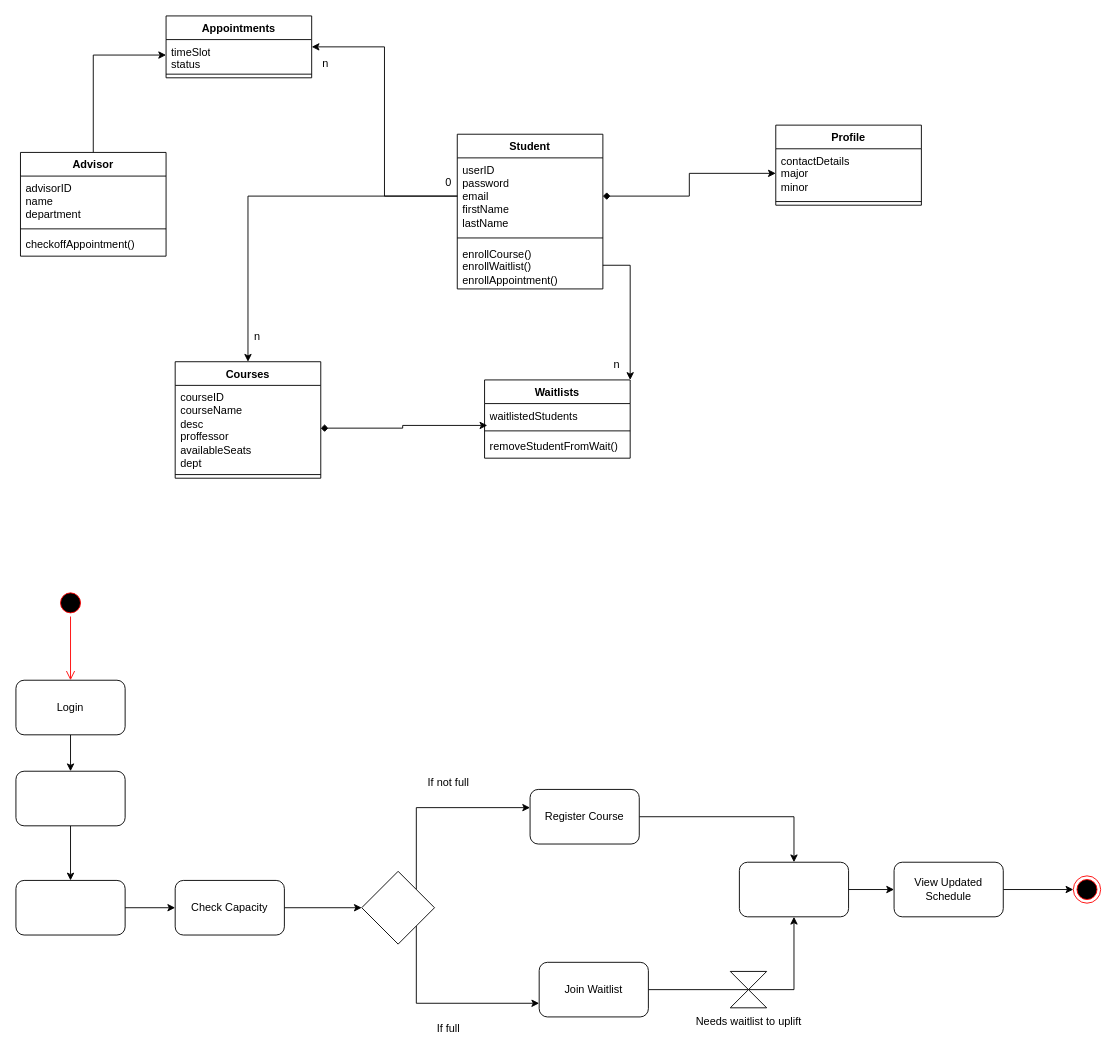
Some shapes in this 1117 by 1058 pixel diagram are drawn without their labels. The centre of each missing label's shape, as x and y in pixels:
"Receive Notification" belongs at point (793, 889).
"Select Courses" belongs at point (70, 907).
"View Courses" belongs at point (70, 798).
